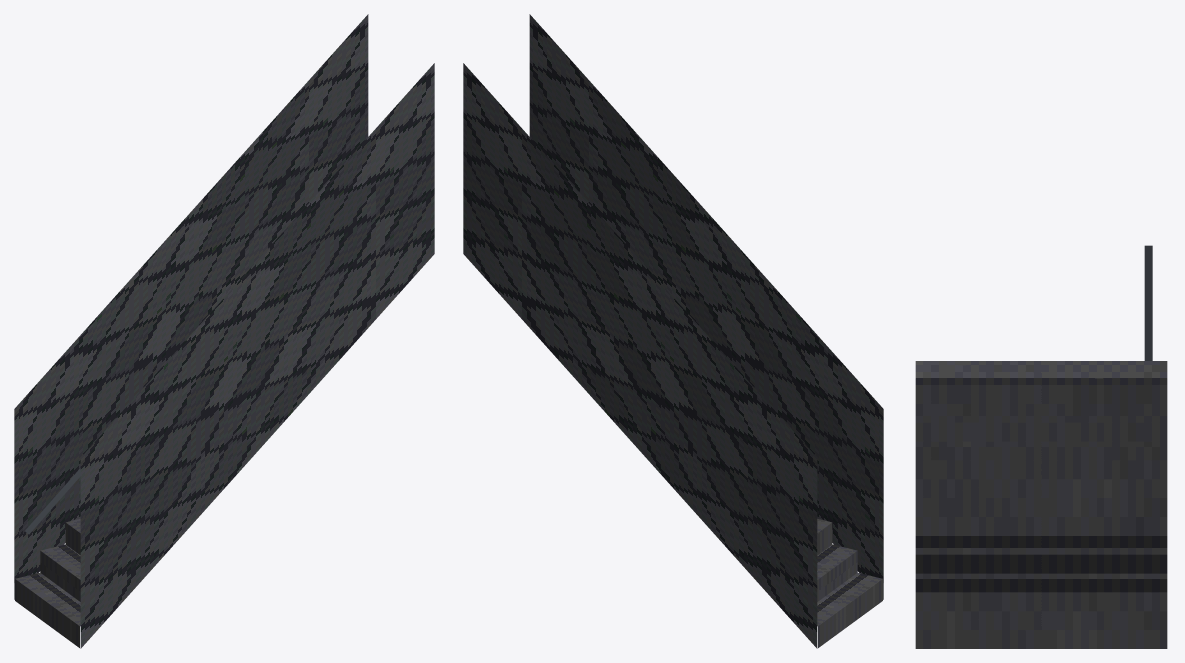
Rendered from mtn_steps_up.glb.
3 renders of one model, left to right at view 1: azimuth 30°, elevation 25°; view 2: azimuth 150°, elevation 25°; view 3: azimuth 270°, elevation 25°, orthographic. The views are drawn at different scales.
Visible parts, largest first — view 1: mtn_steps_up; view 2: mtn_steps_up; view 3: mtn_steps_up.
Part boxes in pixels (left/top/right/bottom): mtn_steps_up: left=14, top=14, right=434, bottom=648; mtn_steps_up: left=463, top=14, right=883, bottom=648; mtn_steps_up: left=915, top=245, right=1167, bottom=648.
Bounding box in the file's own units: 5.06 × 6.8 × 1.64.
Materials: 3 (3 with a texture image).
